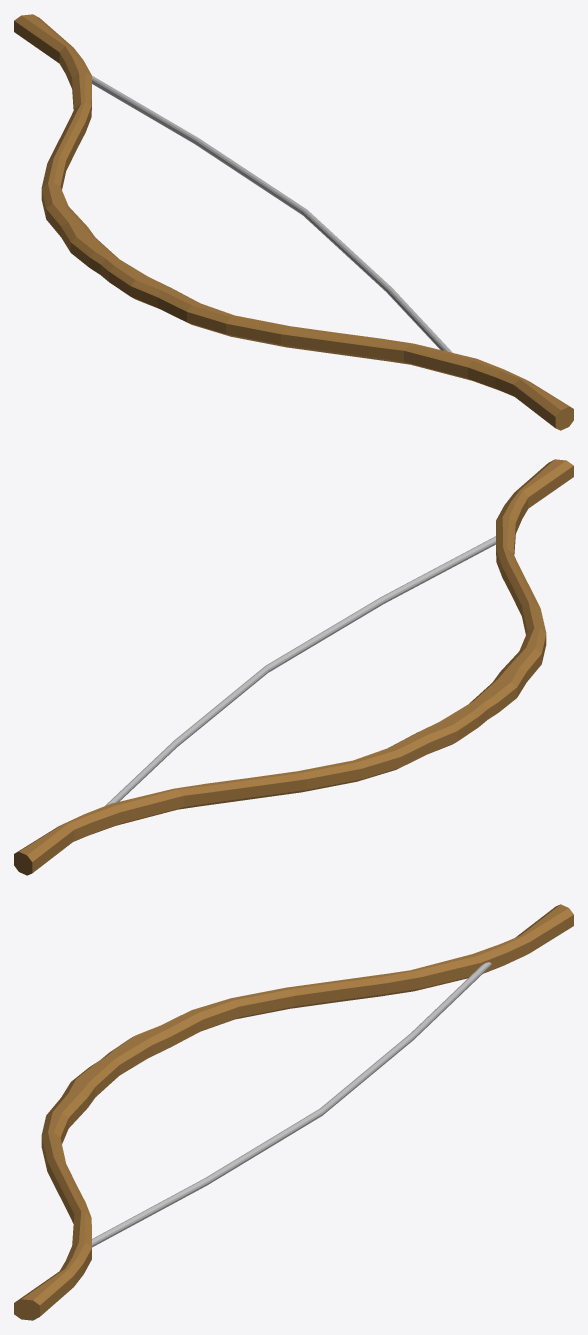
File: Bow.fbx
The picture shows the model from 3 angles, top to bottom: view 1: azimuth 30°, elevation 25°; view 2: azimuth 150°, elevation 25°; view 3: azimuth 330°, elevation 25°; orthographic projection.
Parts seen in each view (by area): view 1: Cube, Circle; view 2: Cube, Circle; view 3: Cube, Circle.
Boxes of the visible parts, box(x1,y1,x2,y2) form: Cube: box(14, 14, 573, 430); Circle: box(92, 75, 452, 352); Cube: box(14, 459, 573, 875); Circle: box(105, 536, 495, 805); Cube: box(14, 904, 573, 1320); Circle: box(92, 962, 491, 1247).
Size of the model in its own units: 65.77 by 5.86 by 285.
